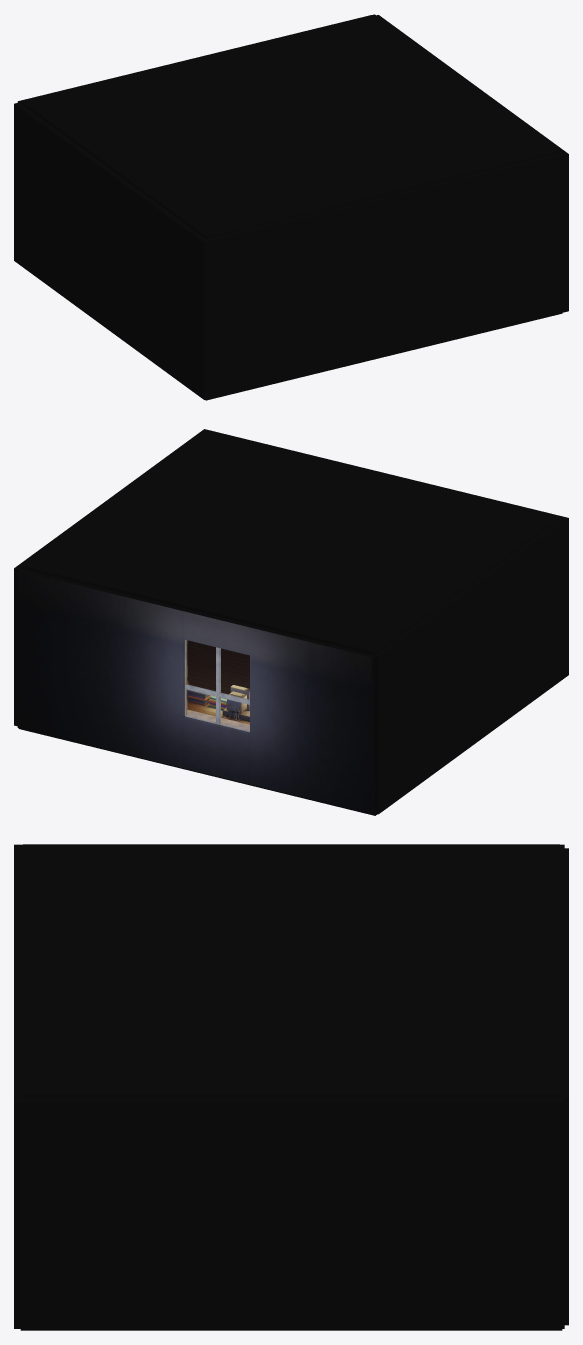
The model's file is sakina-room-baked.glb.
The picture shows the model from 3 angles, top to bottom: view 1: azimuth 30°, elevation 25°; view 2: azimuth 150°, elevation 25°; view 3: azimuth 270°, elevation 25°; orthographic projection. The views are drawn at different scales.
Visible parts, largest first — view 1: Room_Shell; view 2: Room_Shell, Room_Window, Room_Monitor; view 3: Room_Shell.
Boxes of the visible parts, x1,y1,x2,y2 form: Room_Shell: (14, 14, 568, 400); Room_Shell: (14, 429, 568, 815); Room_Window: (184, 639, 249, 732); Room_Monitor: (222, 685, 249, 722); Room_Shell: (14, 844, 568, 1330).
Size of the model in its own units: 6.8 by 2.91 by 6.2.
11 materials, 11 textured.
